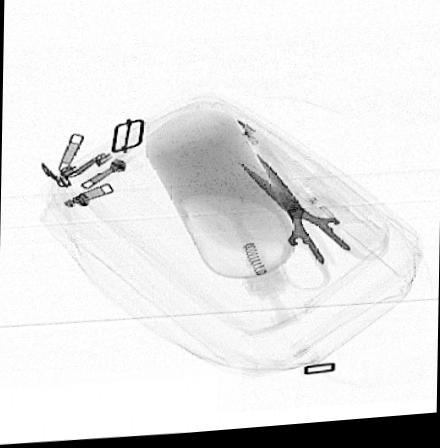Scissors: (239, 157, 391, 297)
